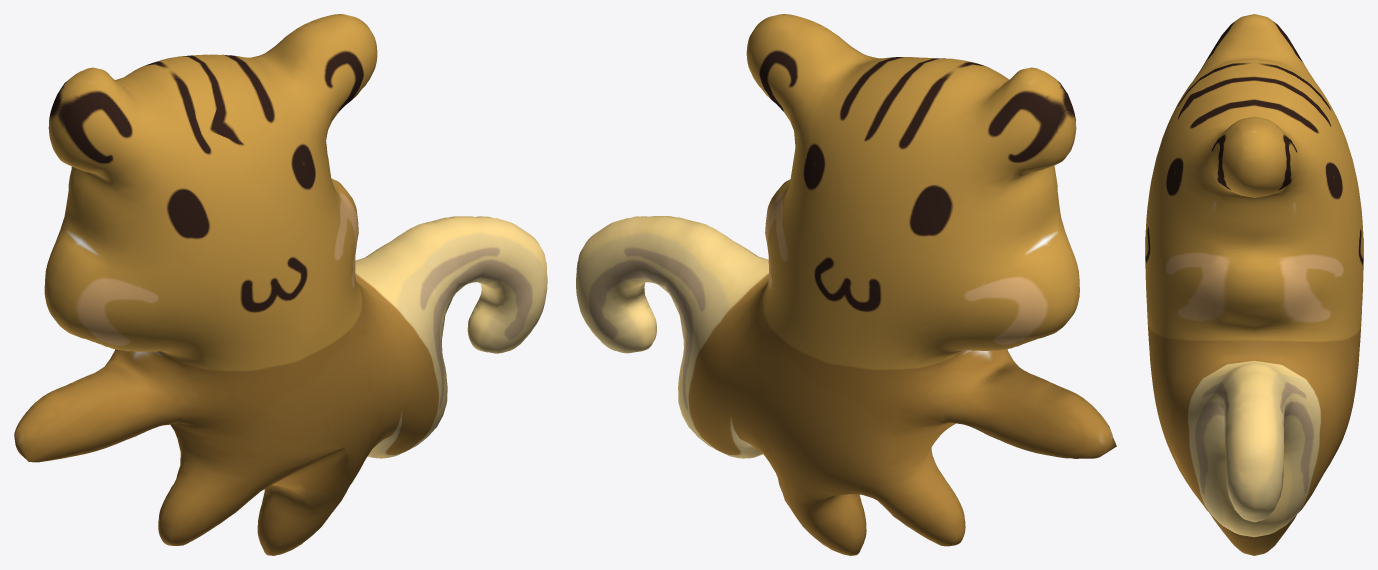
File: Squirrel40.glb
3 renders of one model, left to right at view 1: azimuth 30°, elevation 25°; view 2: azimuth 150°, elevation 25°; view 3: azimuth 270°, elevation 25°, orthographic. The views are drawn at different scales.
Size of the model in its own units: 4.88 by 4.67 by 2.01.
Materials: 1 (1 with a texture image).
